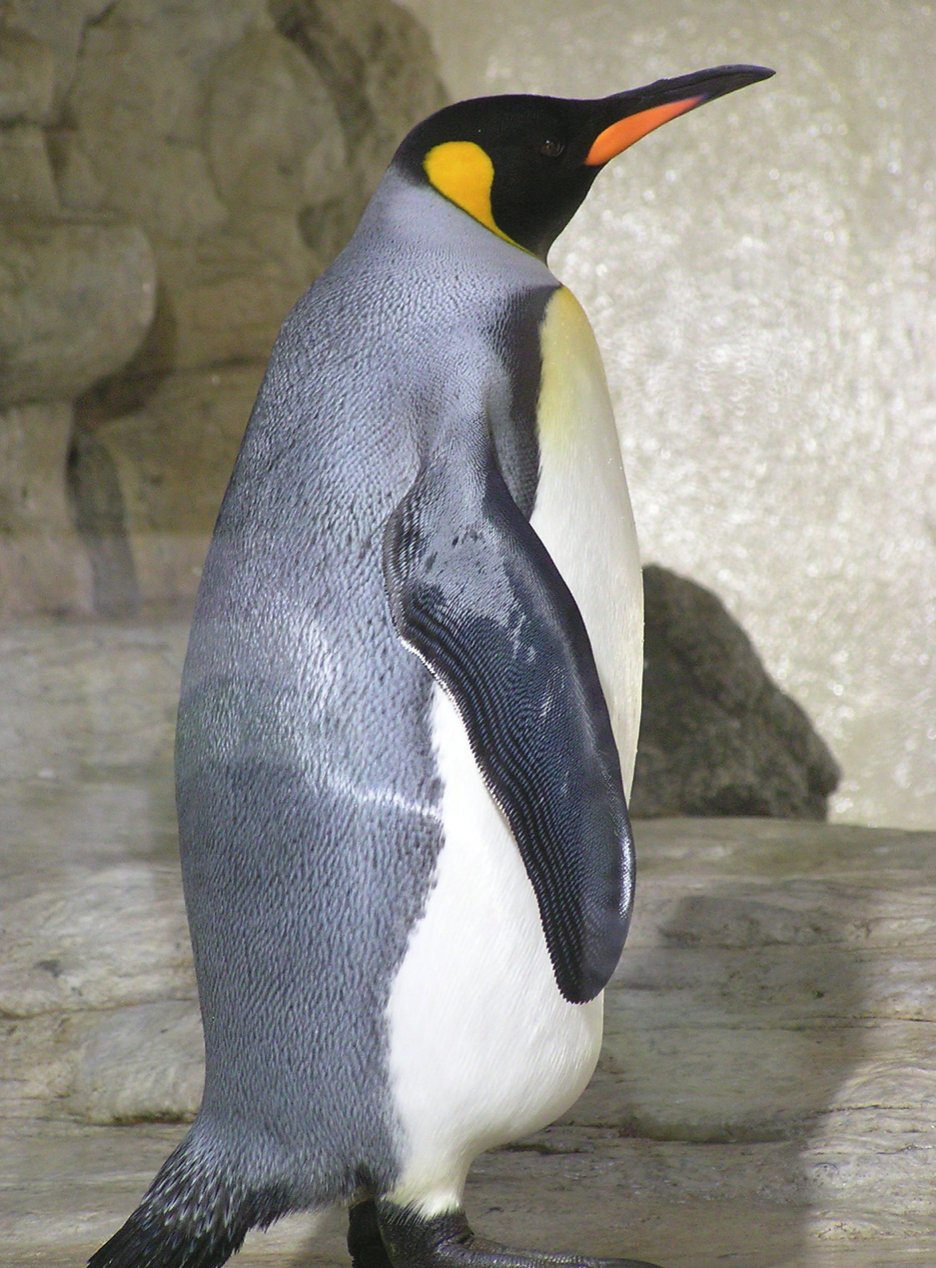penguin: (94, 64, 801, 1268)
